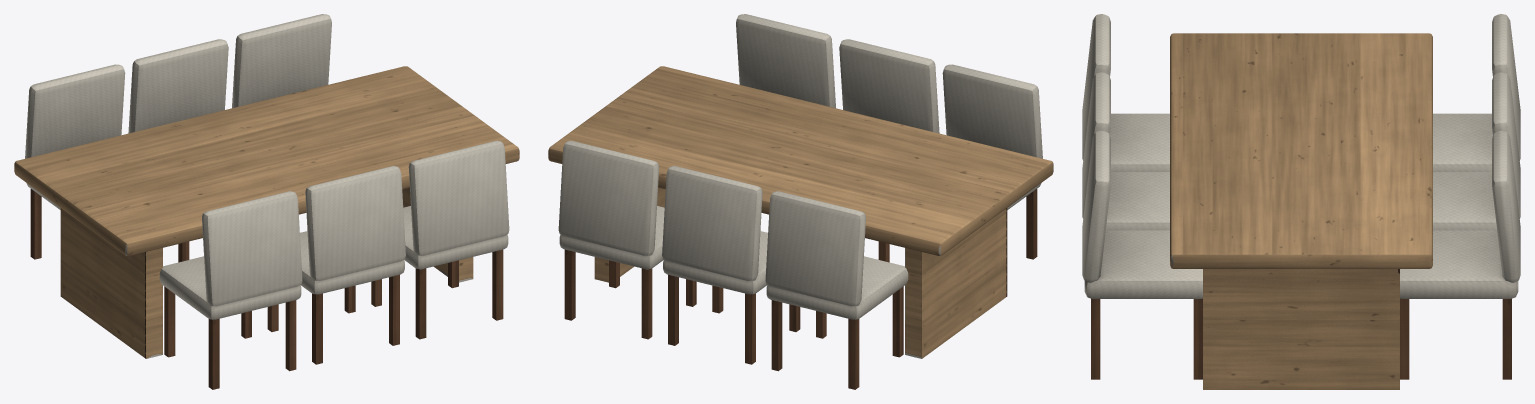
File: H_DiningSet.fbx
3 renders of one model, left to right at view 1: azimuth 30°, elevation 25°; view 2: azimuth 150°, elevation 25°; view 3: azimuth 270°, elevation 25°, orthographic. The views are drawn at different scales.
Parts seen in each view (by area): view 1: H_DiningSet__H_DiningTable, H_DiningSet__H_DiningChair, H_DiningSet__H_DiningChair.004, H_DiningSet__H_DiningChair.002, H_DiningSet__H_DiningChair.001, H_DiningSet__H_DiningChair.003, H_DiningSet__H_DiningChair.005; view 2: H_DiningSet__H_DiningTable, H_DiningSet__H_DiningChair.001, H_DiningSet__H_DiningChair.005, H_DiningSet__H_DiningChair.003, H_DiningSet__H_DiningChair, H_DiningSet__H_DiningChair.002, H_DiningSet__H_DiningChair.004; view 3: H_DiningSet__H_DiningTable, H_DiningSet__H_DiningChair.004, H_DiningSet__H_DiningChair.005, H_DiningSet__H_DiningChair.002, H_DiningSet__H_DiningChair.003, H_DiningSet__H_DiningChair, H_DiningSet__H_DiningChair.001.
Part boxes in pixels (x1,y1,x2,y2): H_DiningSet__H_DiningTable: (14,66,519,358); H_DiningSet__H_DiningChair: (159,191,302,389); H_DiningSet__H_DiningChair.004: (371,140,509,339); H_DiningSet__H_DiningChair.002: (267,166,405,364); H_DiningSet__H_DiningChair.001: (25,64,125,259); H_DiningSet__H_DiningChair.003: (128,39,228,262); H_DiningSet__H_DiningChair.005: (232,14,331,108); H_DiningSet__H_DiningTable: (548,66,1053,358); H_DiningSet__H_DiningChair.001: (765,191,908,389); H_DiningSet__H_DiningChair.005: (558,140,696,339); H_DiningSet__H_DiningChair.003: (662,166,800,364); H_DiningSet__H_DiningChair: (942,64,1042,259); H_DiningSet__H_DiningChair.002: (839,39,939,262); H_DiningSet__H_DiningChair.004: (736,14,835,108); H_DiningSet__H_DiningTable: (1170,33,1432,389); H_DiningSet__H_DiningChair.004: (1082,130,1202,379); H_DiningSet__H_DiningChair.005: (1400,130,1520,379); H_DiningSet__H_DiningChair.002: (1082,72,1169,230); H_DiningSet__H_DiningChair.003: (1433,72,1520,230); H_DiningSet__H_DiningChair: (1082,14,1169,171); H_DiningSet__H_DiningChair.001: (1433,14,1520,171).
Bounding box in the file's own units: 800 × 339 × 667.
1 material, 1 textured.
